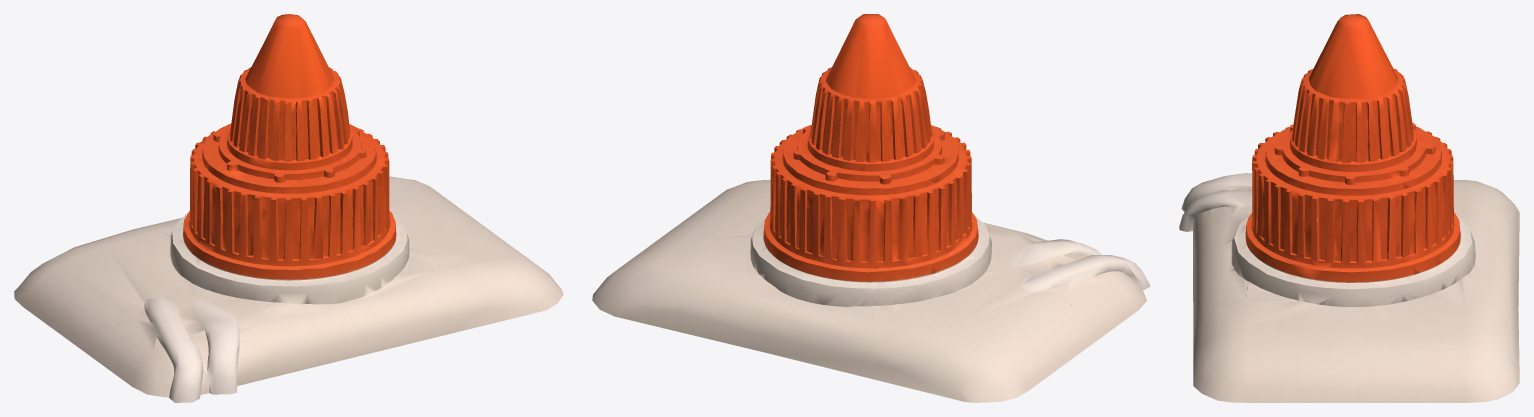
The model's file is 8-topper.fbx.
3 renders of one model, left to right at view 1: azimuth 30°, elevation 25°; view 2: azimuth 150°, elevation 25°; view 3: azimuth 270°, elevation 25°, orthographic.
Visible parts, largest first — view 1: topper; view 2: topper; view 3: topper.
Boxes of the visible parts, x1,y1,x2,y2 form: topper: (14, 14, 563, 402); topper: (592, 14, 1150, 402); topper: (1179, 14, 1519, 402).
Bounding box in the file's own units: 7254 × 4564 × 5005.
Materials: 1 (1 with a texture image).
